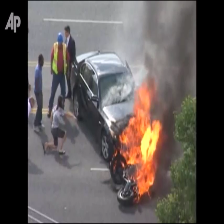fire_h: (111, 83, 162, 201)
fire_l: (111, 149, 118, 157), (112, 160, 117, 170), (120, 161, 126, 168)
